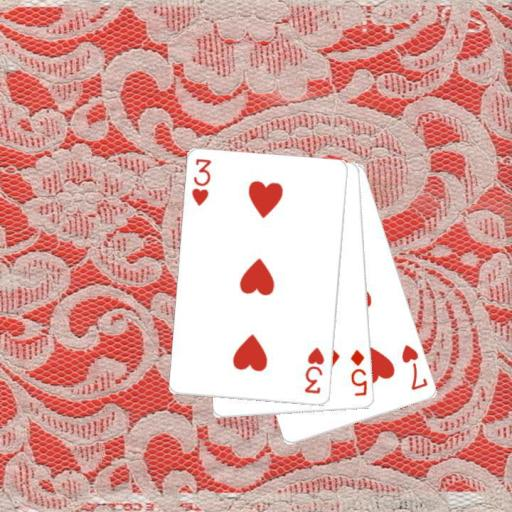3H: (189, 156, 213, 208), (302, 345, 326, 396)
5D: (347, 347, 369, 398)
7H: (398, 342, 430, 393)
